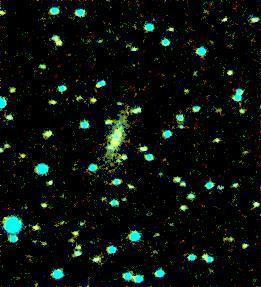star: (8, 140, 38, 170)
